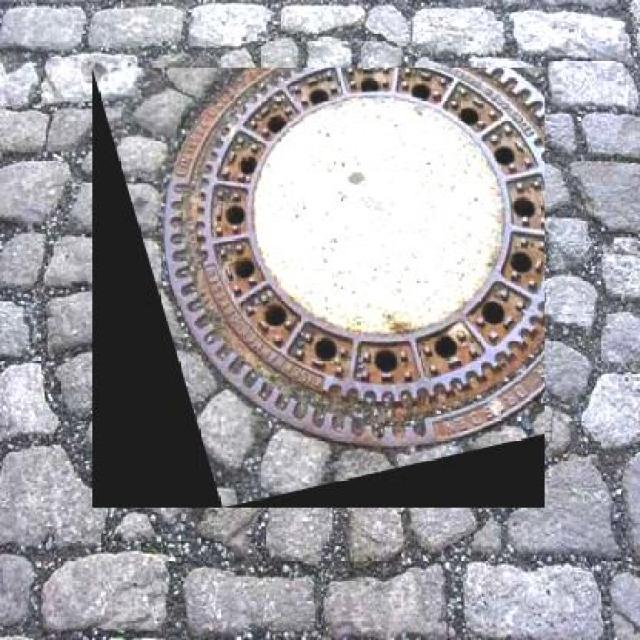Manhole: (92, 68, 546, 508)
